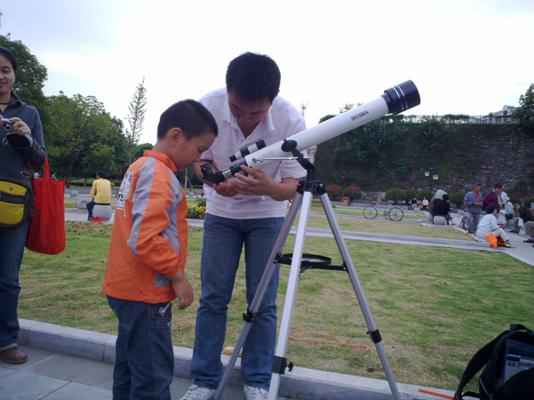person: (103, 100, 218, 399)
